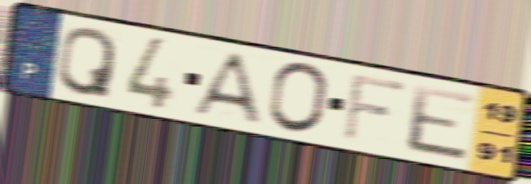4: (123, 34, 178, 114)
A: (189, 49, 266, 128)
E: (405, 82, 479, 165)
F: (339, 71, 410, 145)
O: (265, 59, 331, 136)
Q: (55, 25, 119, 101)
